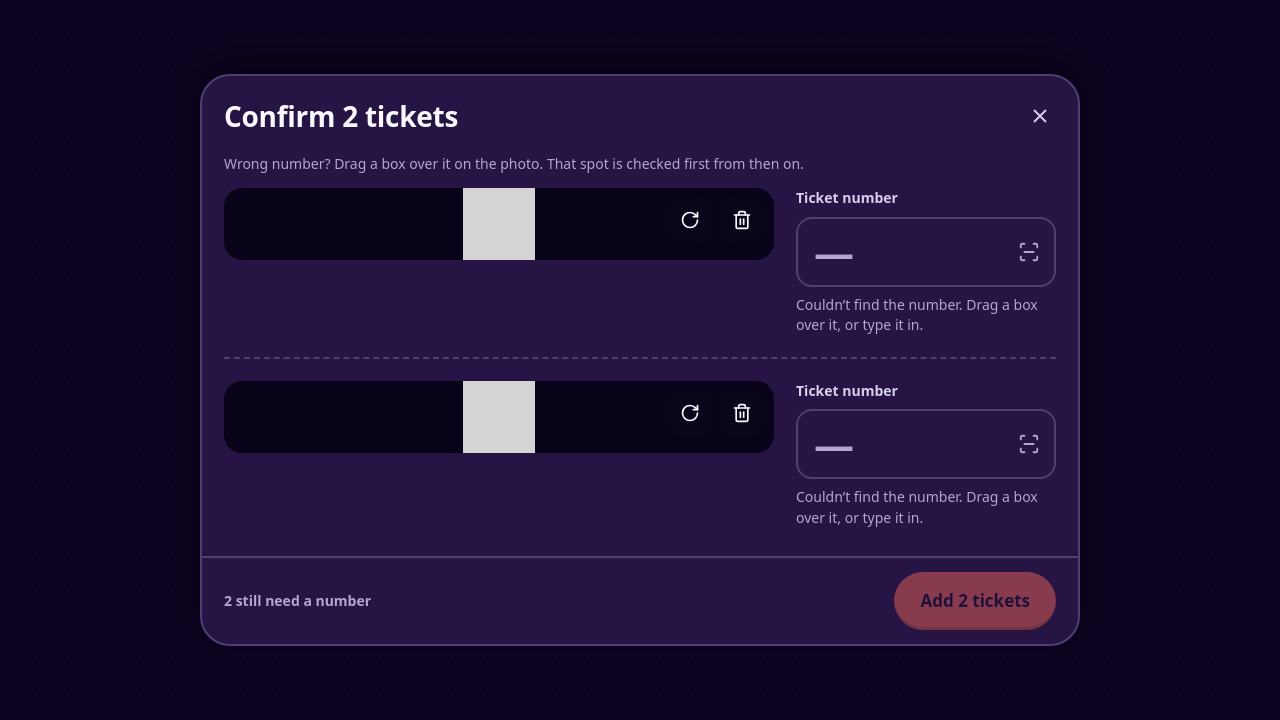
Test case: ReviewSheet › asks you to type the number when it can’t be found
Expected: the text "2 still need a number" is shown, top-left (224, 591), bottom-right (371, 611)
Expected: the text "Couldn’t find the number. Drag a box over it, or type it in." is shown 2 times, top-left (796, 294), bottom-right (1056, 335); top-left (796, 487), bottom-right (1056, 528)
Type "12" into the 1st field labelled "Ticket number" at point(926, 252), box top-left (796, 216), bottom-right (1056, 286)
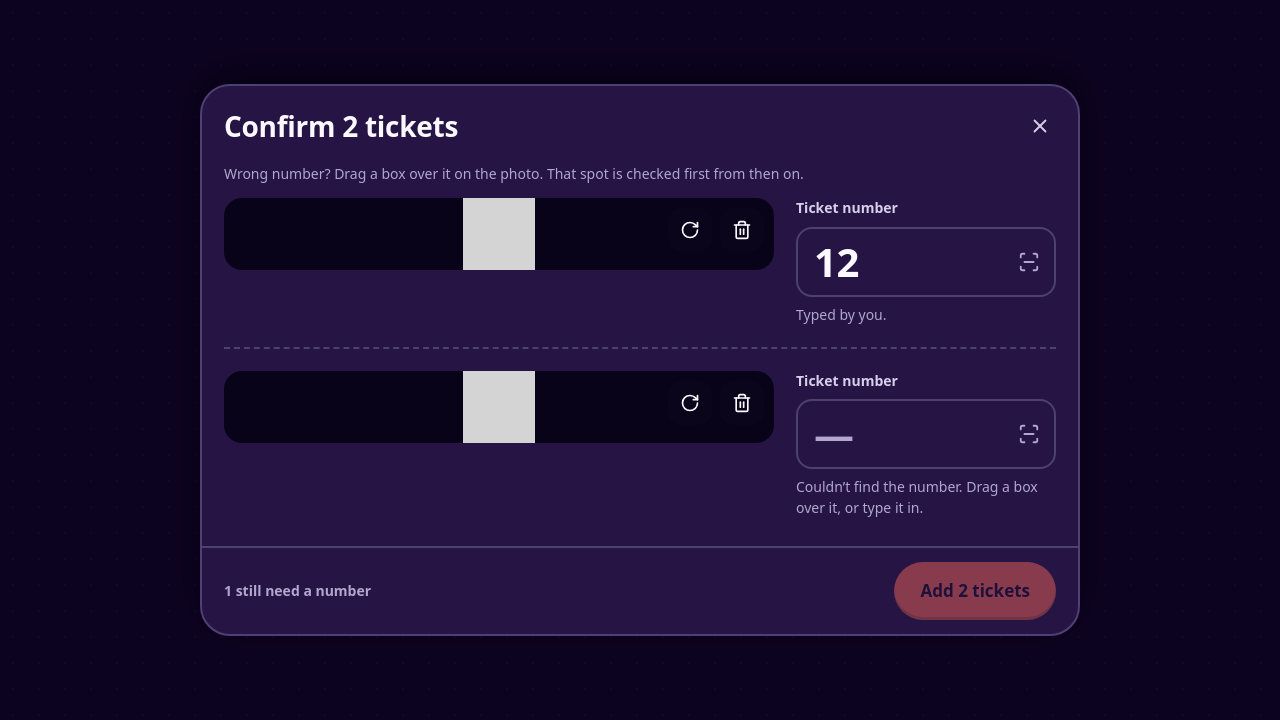
Expected: the button "Add 2 tickets" is disabled, top-left (894, 562), bottom-right (1056, 620)
Type "13" into the 2nd field labelled "Ticket number" at point(926, 434), box top-left (796, 399), bottom-right (1056, 469)
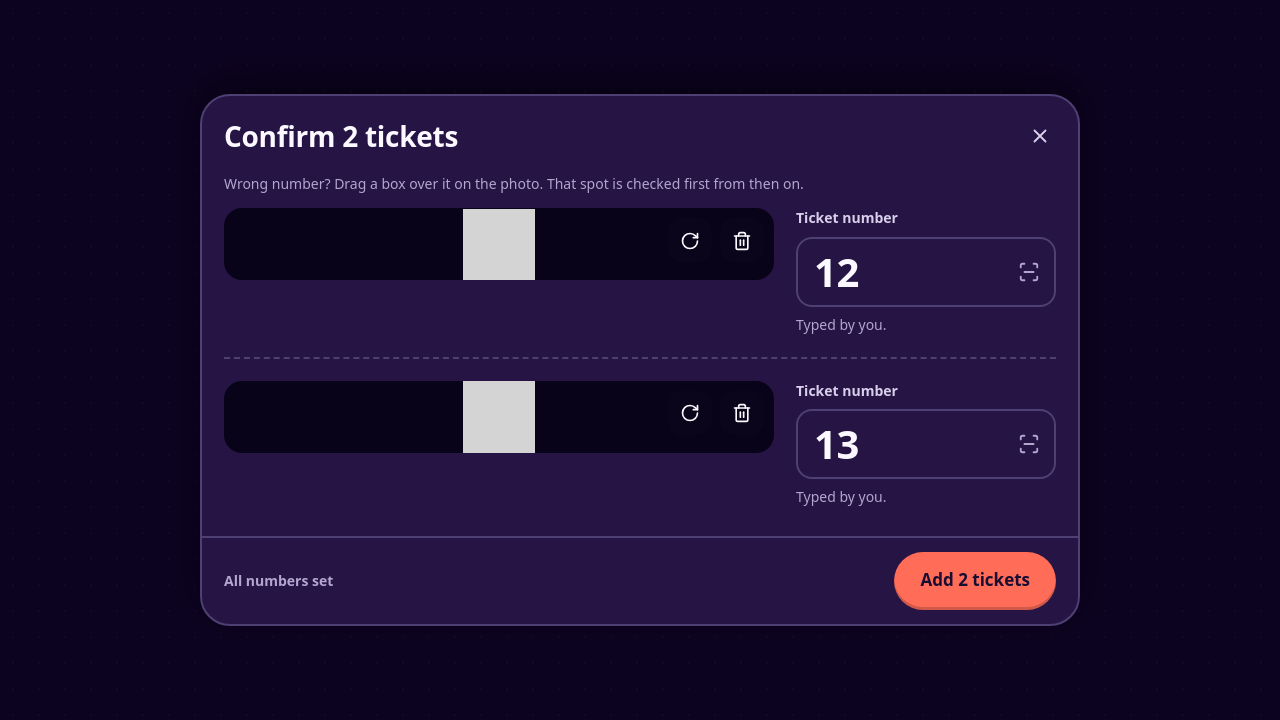
Expected: the button "Add 2 tickets" is enabled, top-left (894, 552), bottom-right (1056, 610)
